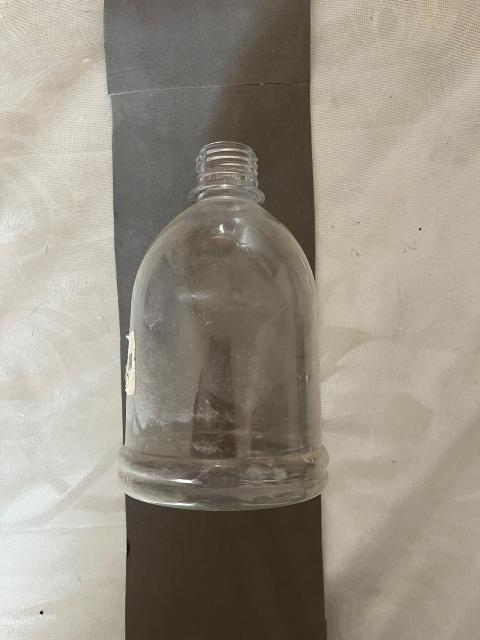PET: (75, 142, 395, 579)
